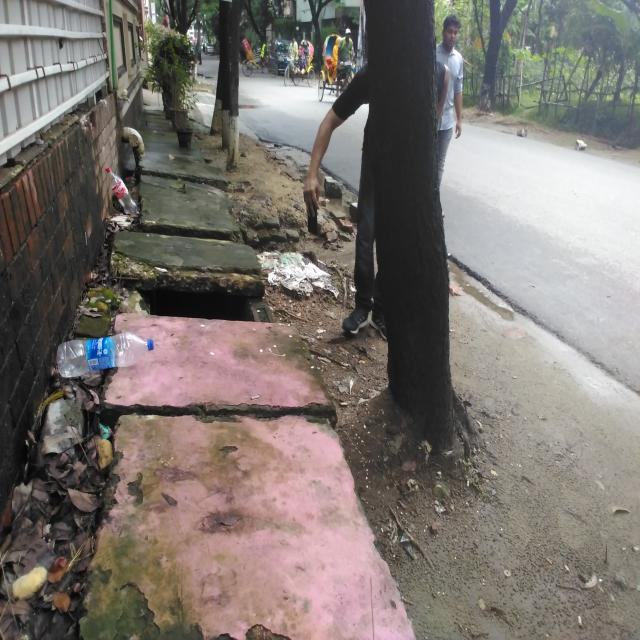artificial_container: (116, 259, 283, 332), (53, 334, 158, 374), (101, 162, 143, 224)
